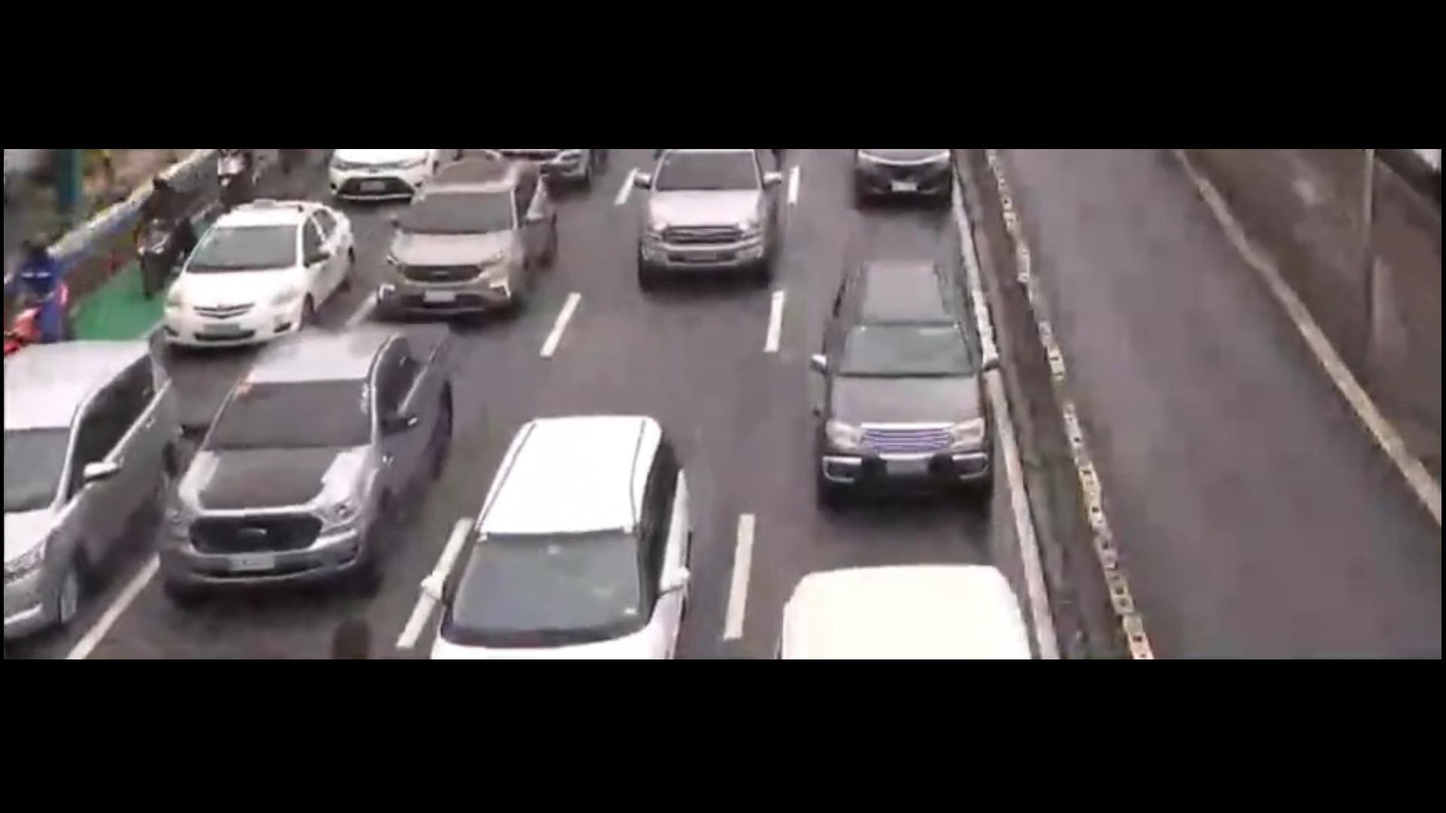Motorcycle: (136, 172, 194, 301)
Pickup: (151, 325, 453, 598)
SUV: (423, 416, 695, 656), (810, 246, 1000, 513), (3, 341, 170, 640), (376, 160, 556, 316), (635, 148, 784, 285)
Sedan: (154, 198, 357, 345), (326, 149, 446, 203)
